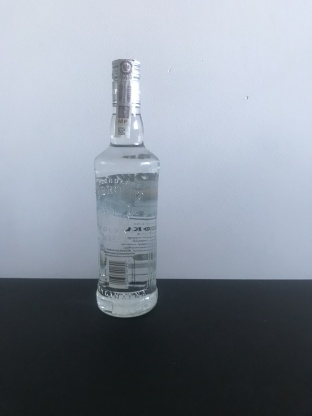nakretka: (109, 55, 143, 109)
